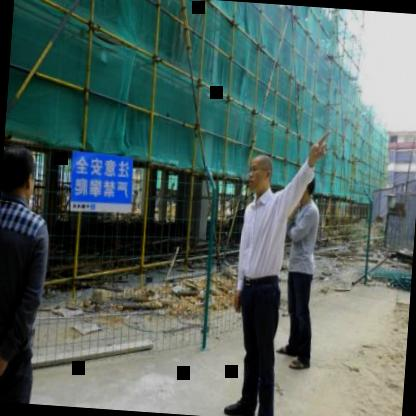head: (0, 142, 38, 213), (245, 152, 276, 196)
